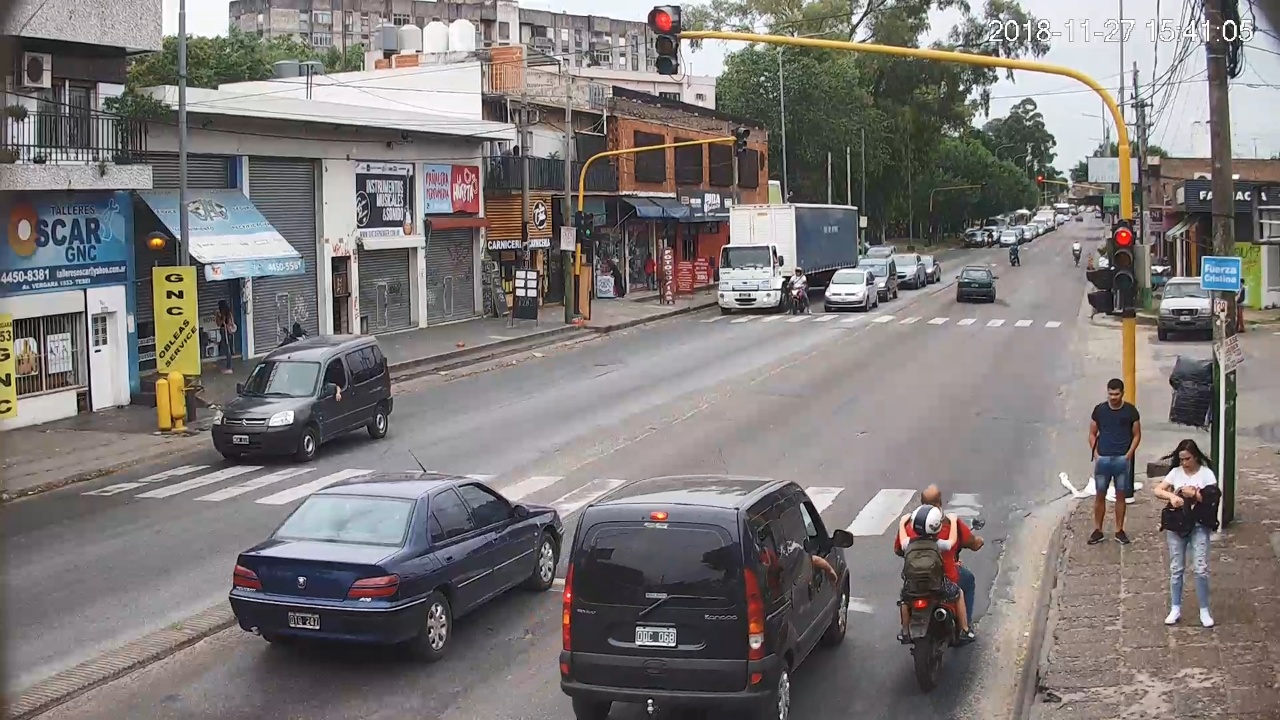car: (561, 476, 853, 720), (228, 472, 565, 662), (956, 266, 999, 304)
front car: (212, 333, 392, 461)
motorcycle: (894, 514, 985, 688)
traffic light: (655, 7, 680, 75), (1113, 228, 1134, 289)
